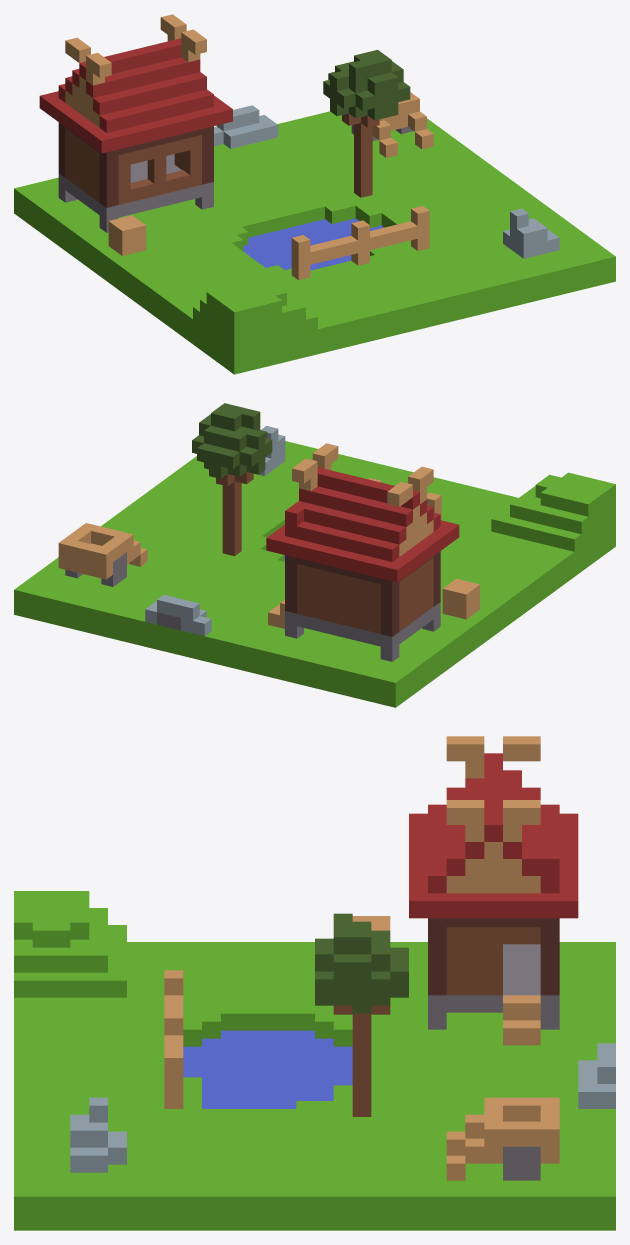
Rendered from lakehouse.obj.
The picture shows the model from 3 angles, top to bottom: view 1: azimuth 30°, elevation 25°; view 2: azimuth 150°, elevation 25°; view 3: azimuth 270°, elevation 25°; orthographic projection. The views are drawn at different scales.
Parts seen in each view (by area): view 1: lakehouse; view 2: lakehouse; view 3: lakehouse.
Boxes of the visible parts, box(x1,y1,x2,y2) form: lakehouse: box(14, 14, 615, 374); lakehouse: box(14, 403, 615, 707); lakehouse: box(14, 736, 615, 1230).
Bounding box in the file's own units: 3.2 × 1.5 × 3.2.
Materials: 1 (1 with a texture image).
